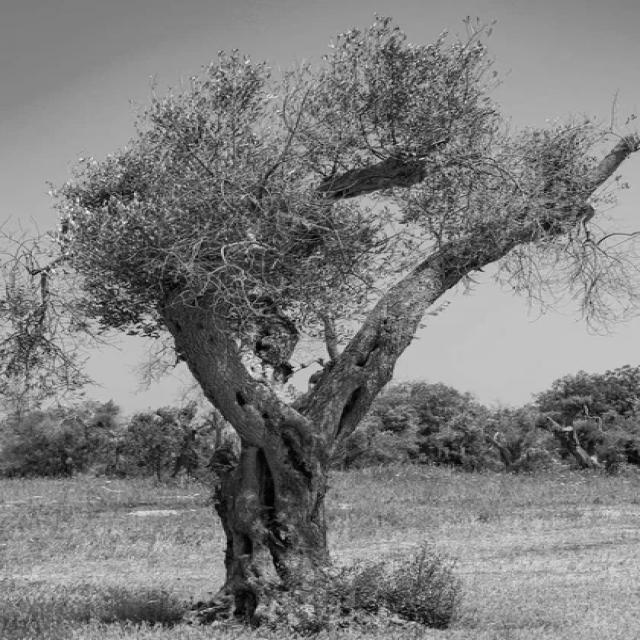Tree: (56, 18, 640, 626)
